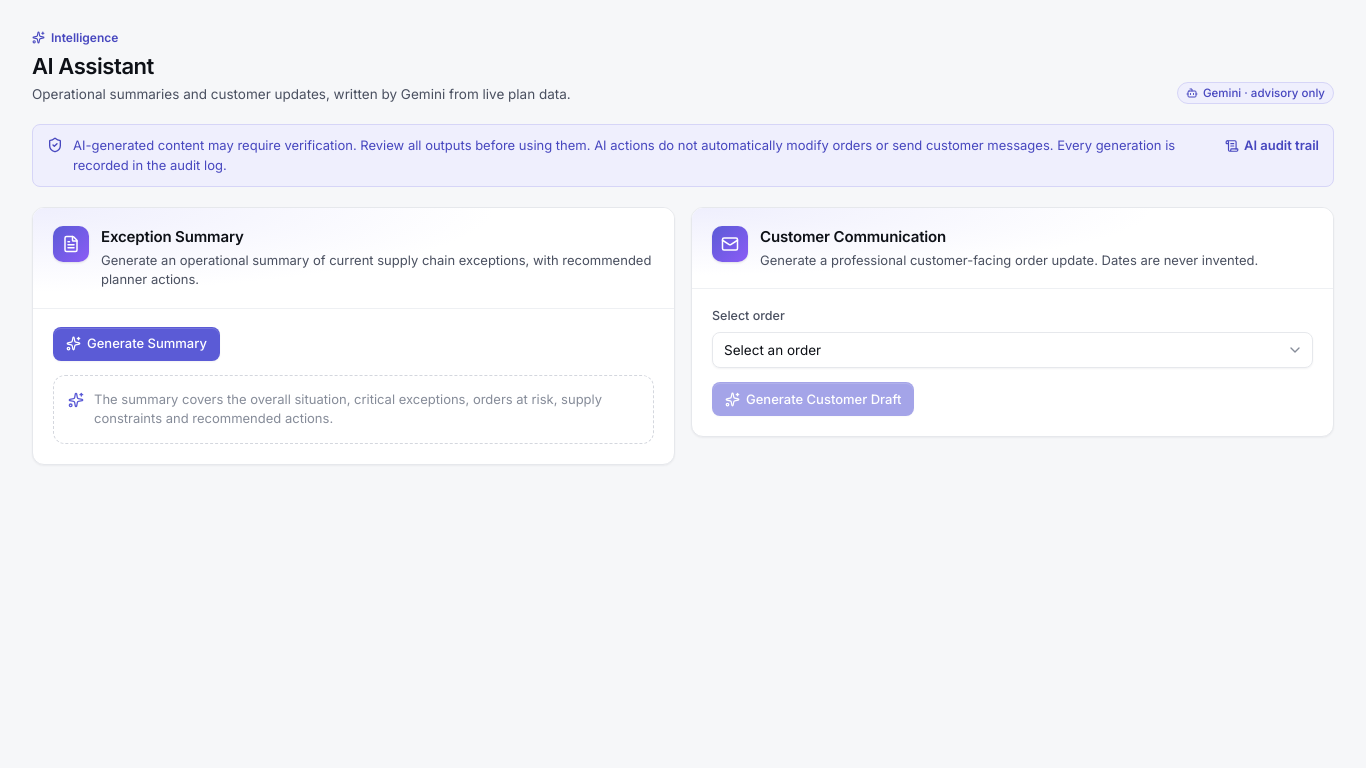
Test case: AIAssistant page › generates a customer communication for the selected order
Select "SCM-TEST-001 — Test Customer (CONFIRMED)" in the dropdown labelled "Select order" at (1012, 350), box left=712, top=332, right=1313, bottom=368
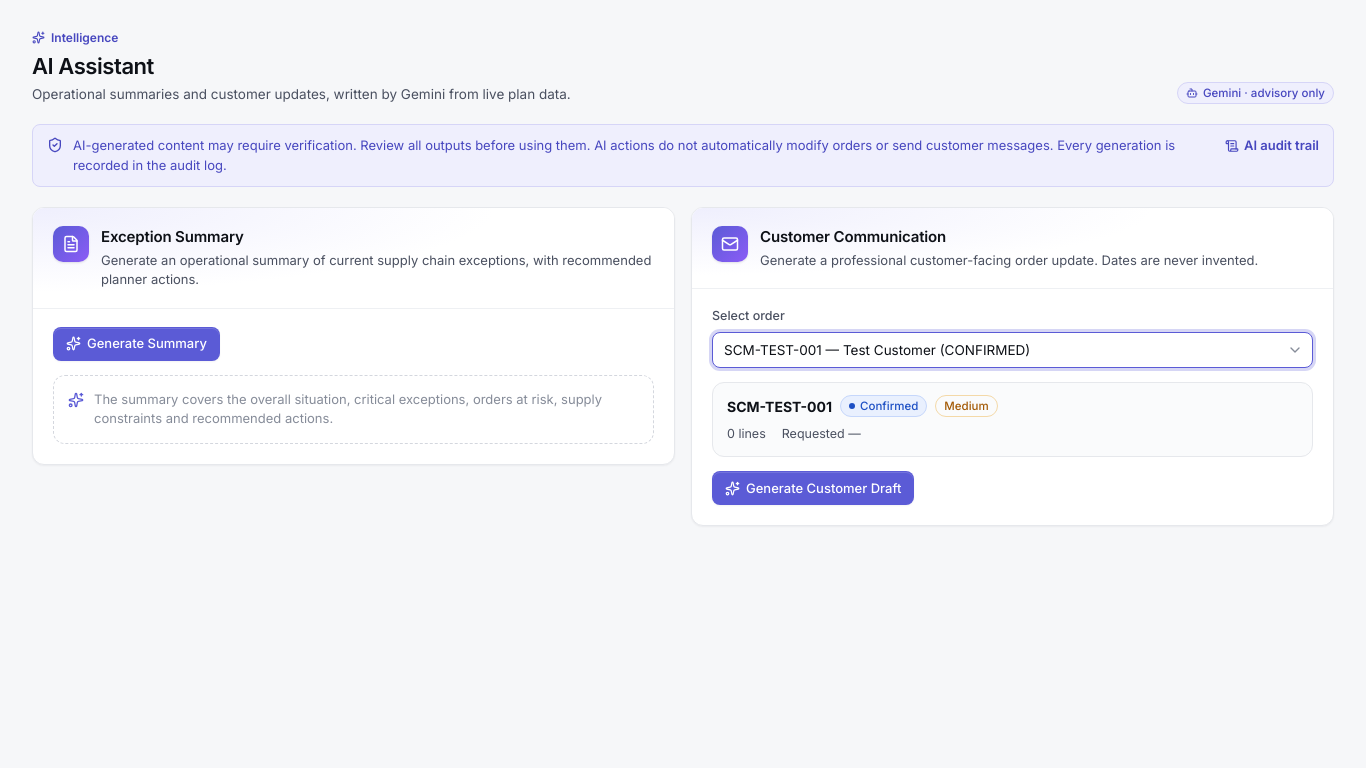
Click the button "Generate Customer Draft" at (813, 488), box left=712, top=471, right=914, bottom=505
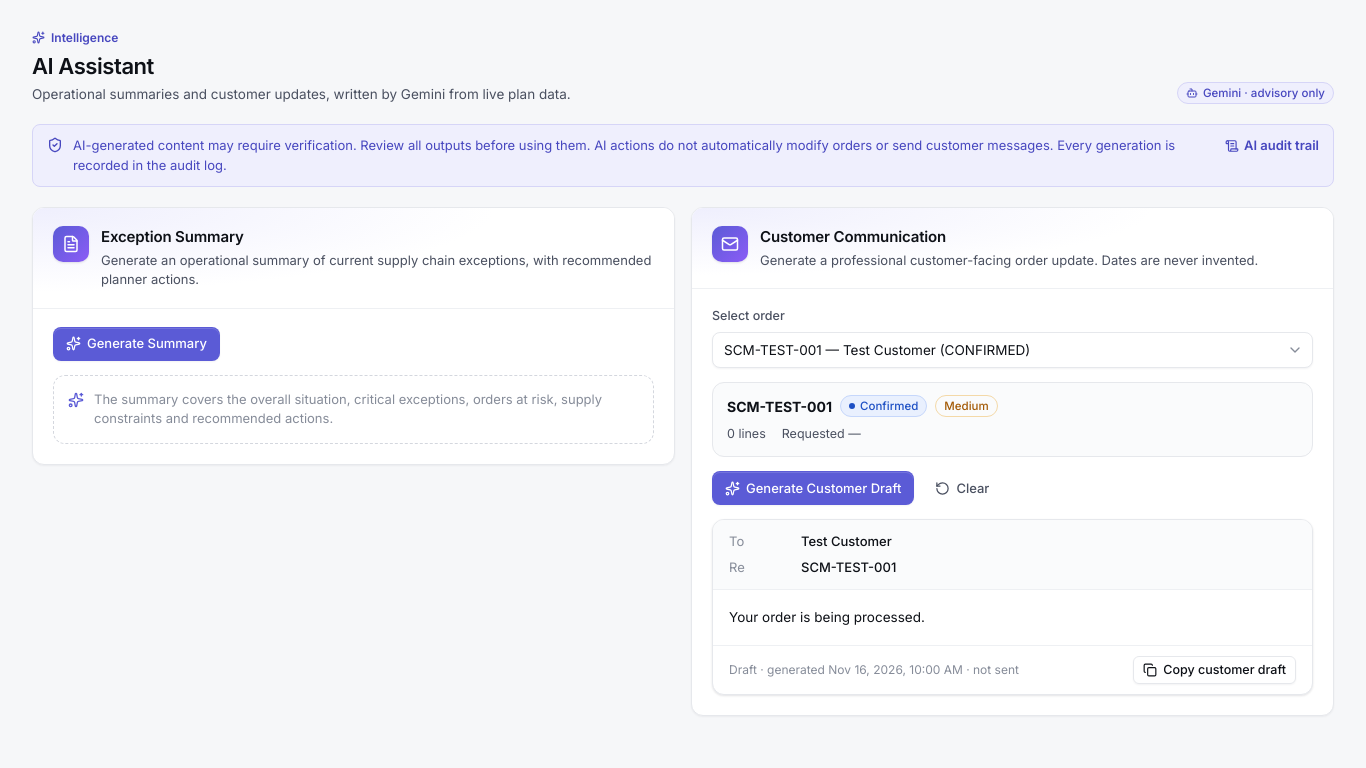
Now the text "Your order is being processed." is shown, box left=729, top=609, right=925, bottom=625
